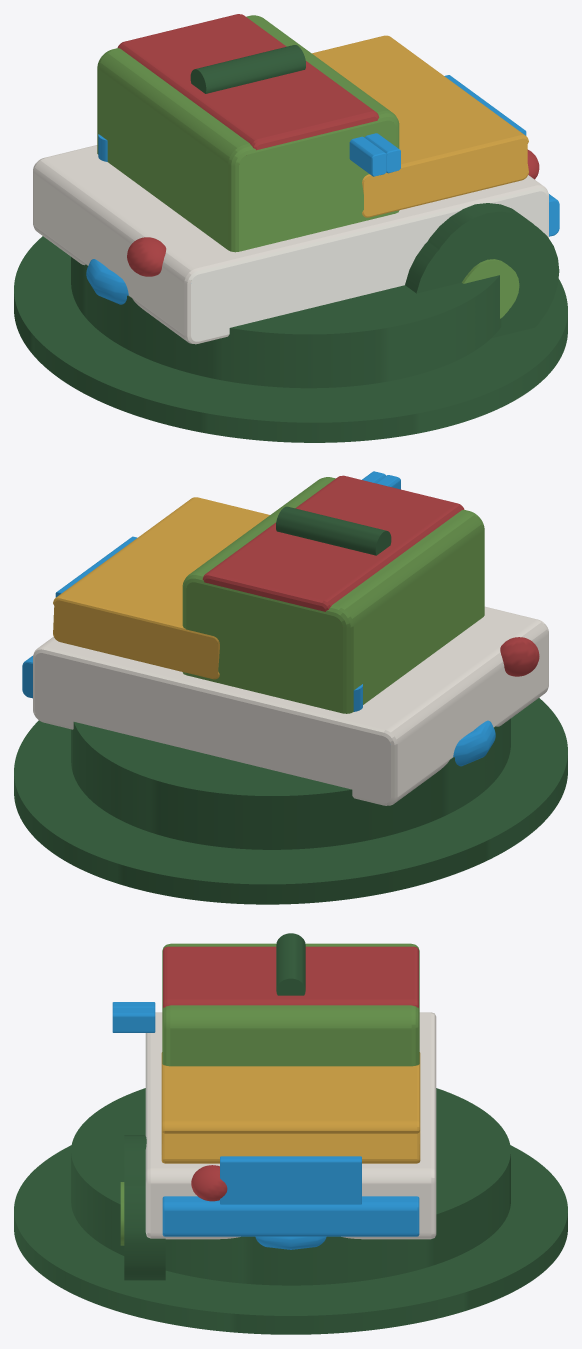
Rendered from 0375_欧洲文明图鉴_螺旋楼梯.glb.
The picture shows the model from 3 angles, top to bottom: view 1: azimuth 30°, elevation 25°; view 2: azimuth 150°, elevation 25°; view 3: azimuth 270°, elevation 25°; orthographic projection. The views are drawn at different scales.
Visible parts, largest first — view 1: card_0375; view 2: card_0375; view 3: card_0375.
Boxes of the visible parts, left/top/right/bottom form: card_0375: left=14, top=14, right=567, bottom=442; card_0375: left=14, top=471, right=567, bottom=904; card_0375: left=14, top=933, right=567, bottom=1334.
Bounding box in the file's own units: 1.77 × 1 × 1.95.
